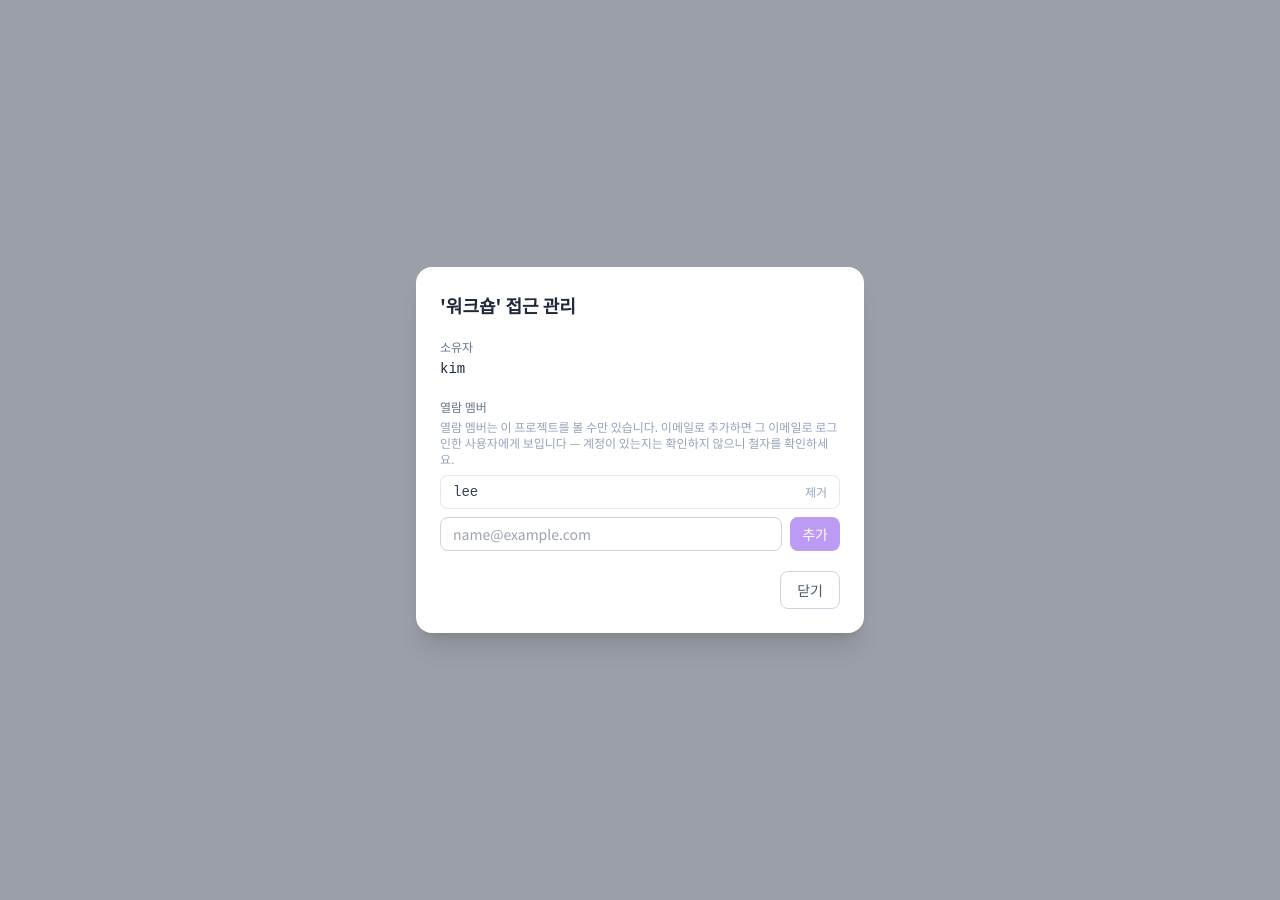
ProjectMembersModal › adds a viewer by email and shows the username the server stored
The width and height of the screenshot is (1280, 900).
Type "Choi@example.com" into the field named "열람 멤버 이메일" at point(611, 534), box [440,517,782,551]
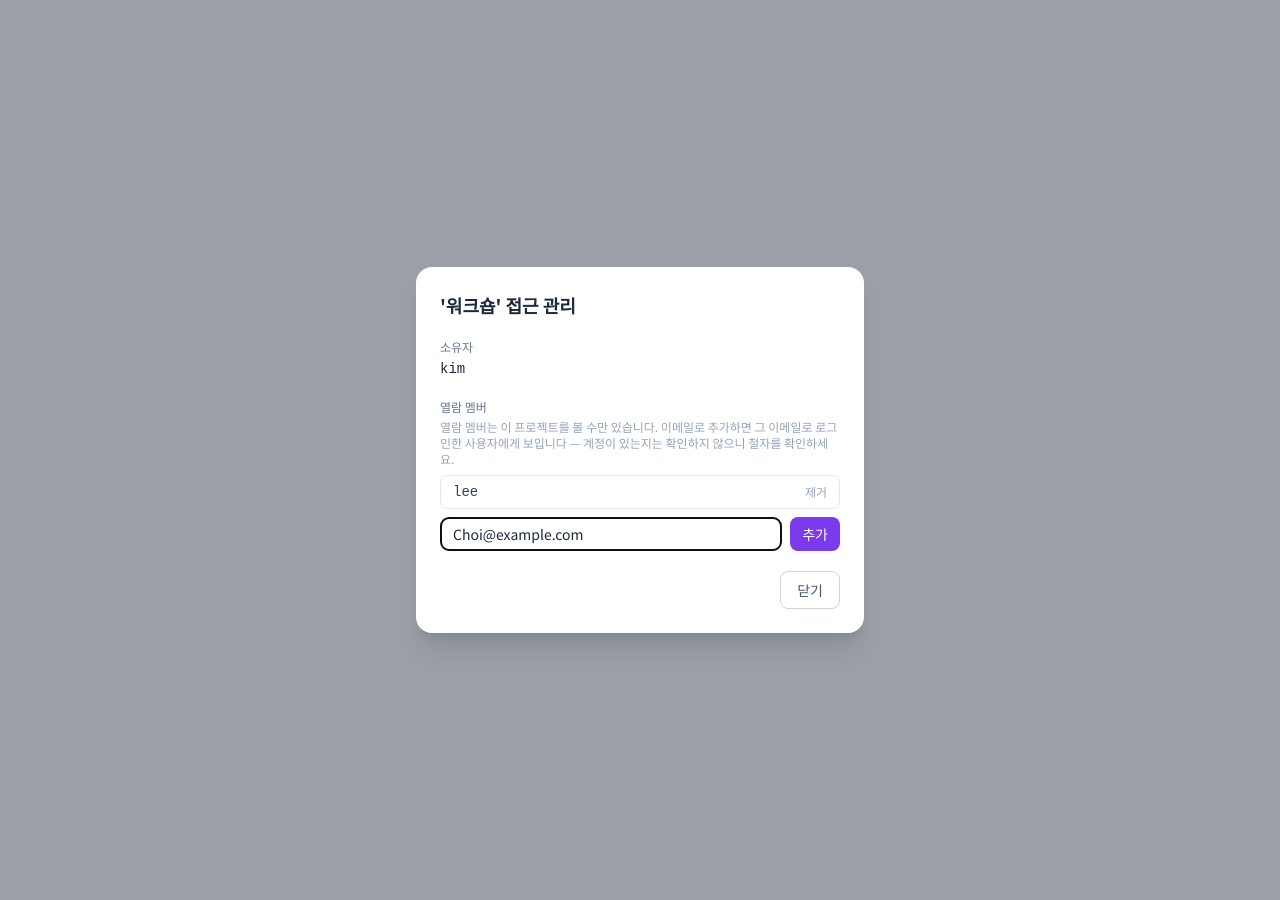
Click the button "추가" at point(815, 534), box [790,517,840,551]
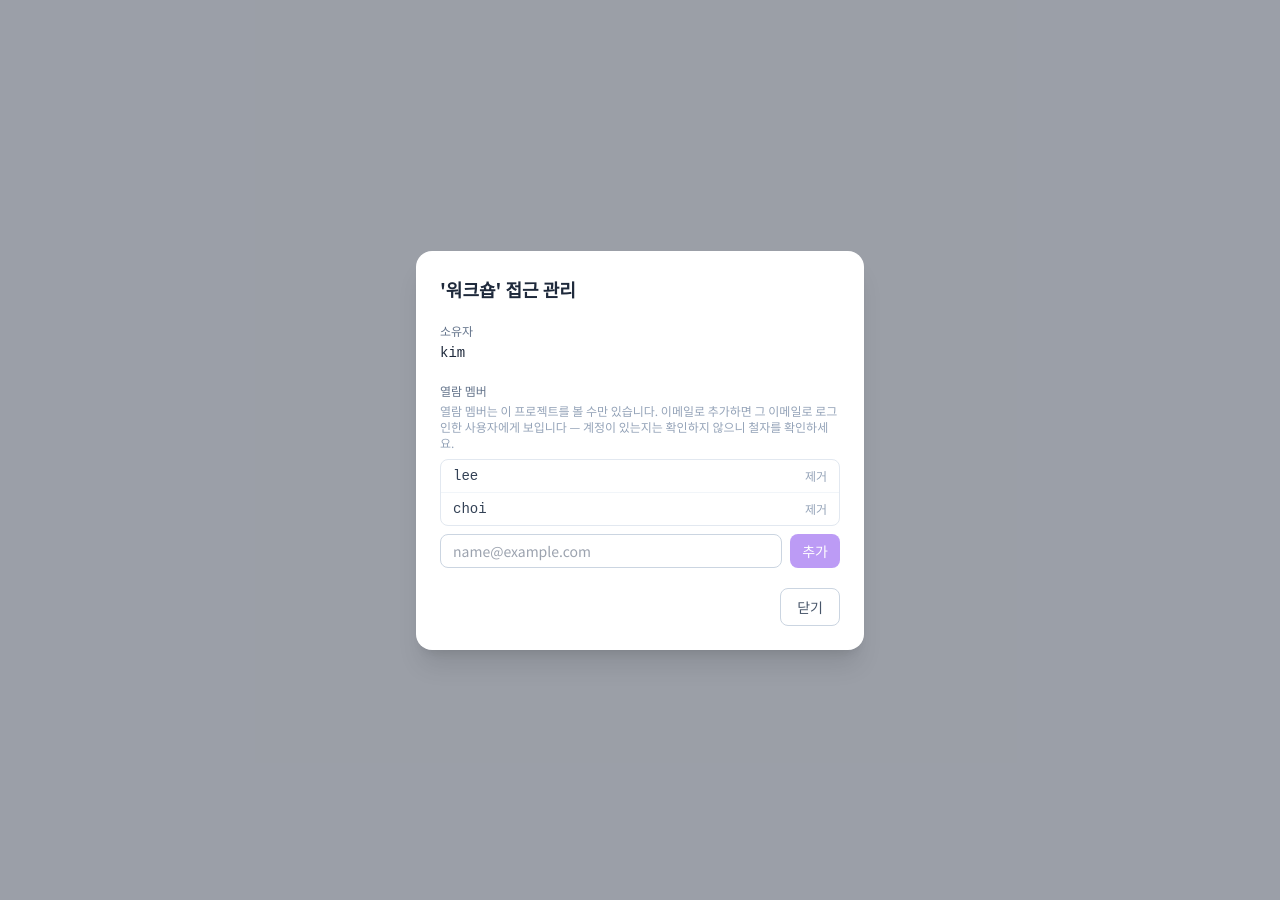
expect the text "choi" is shown: met, box [453,498,487,518]
